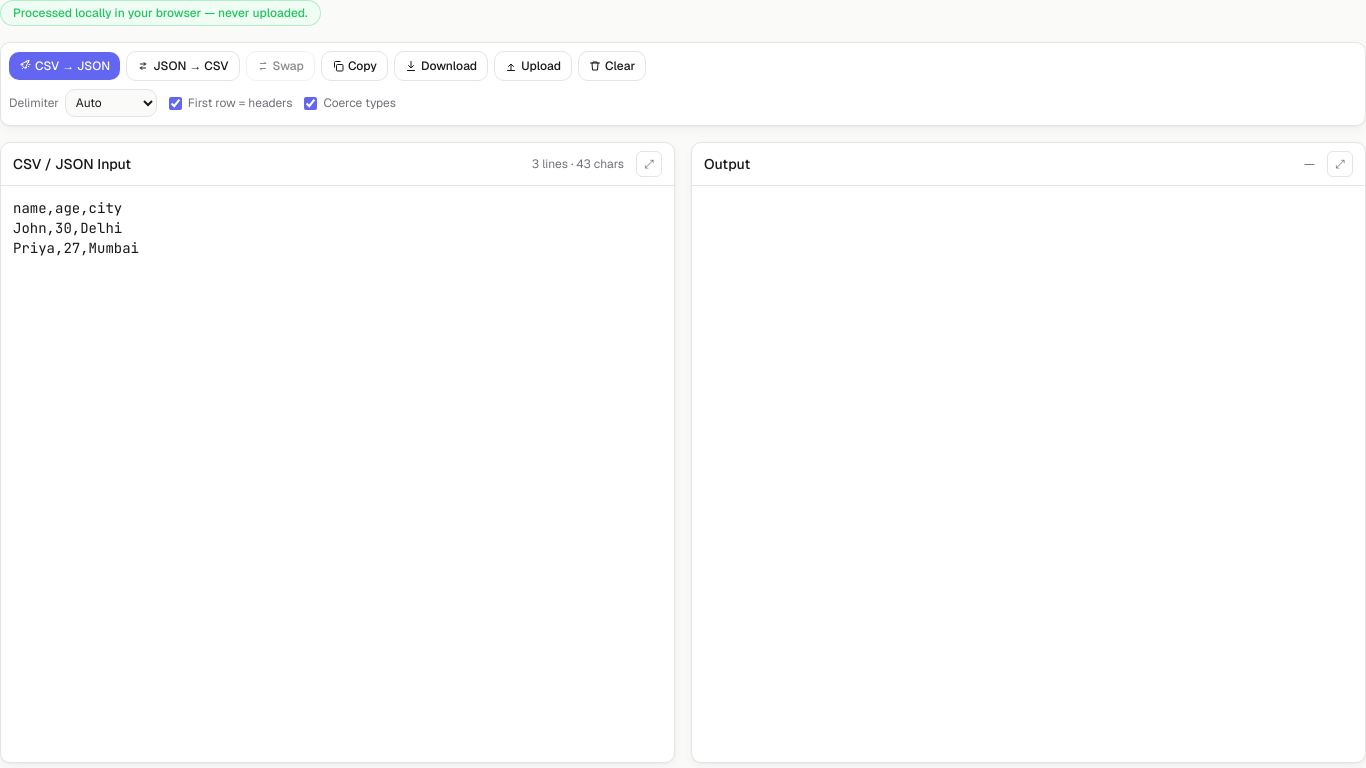
Test: CsvTool › shows error for invalid JSON → CSV
The image size is (1366, 768).
Clear the text box named "csv / json input" at (338,474), box left=1, top=186, right=674, bottom=762
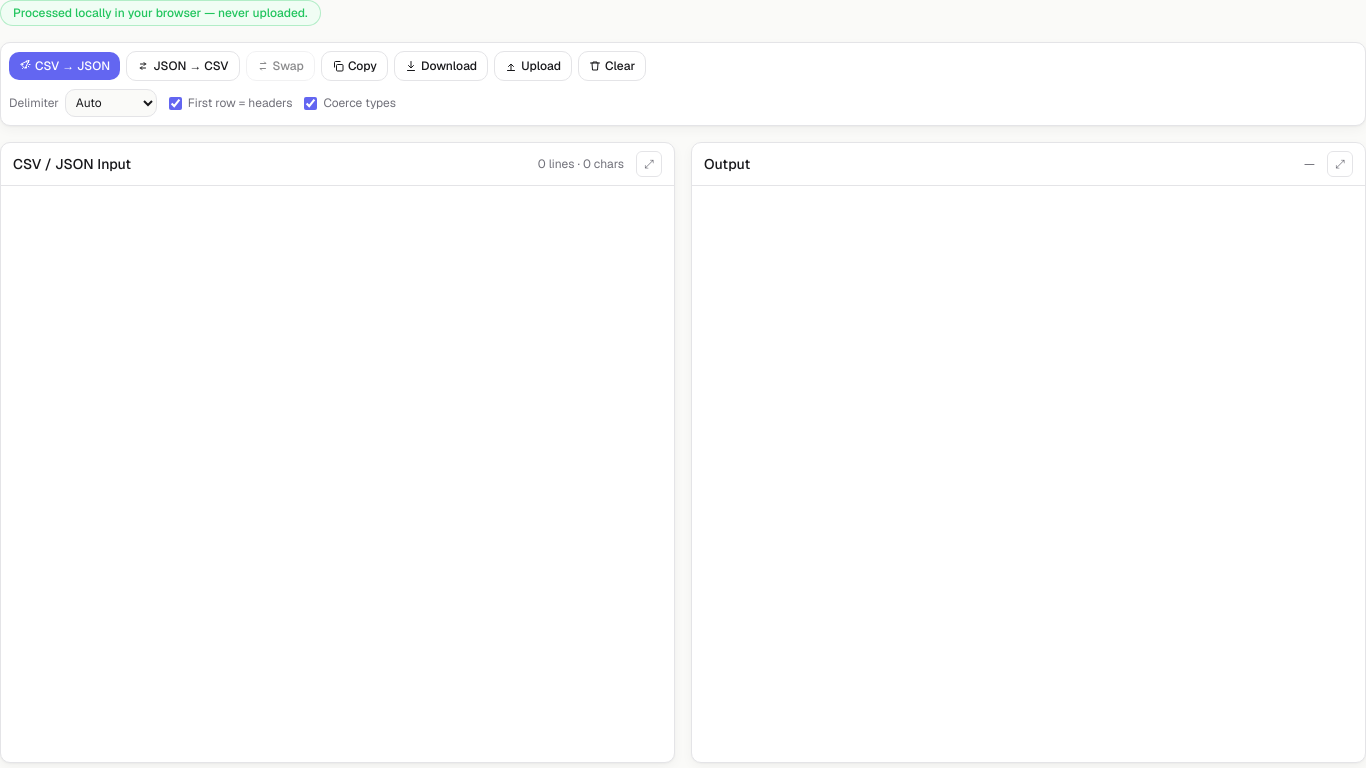
Type keys "{\"not\":\"array\"}"
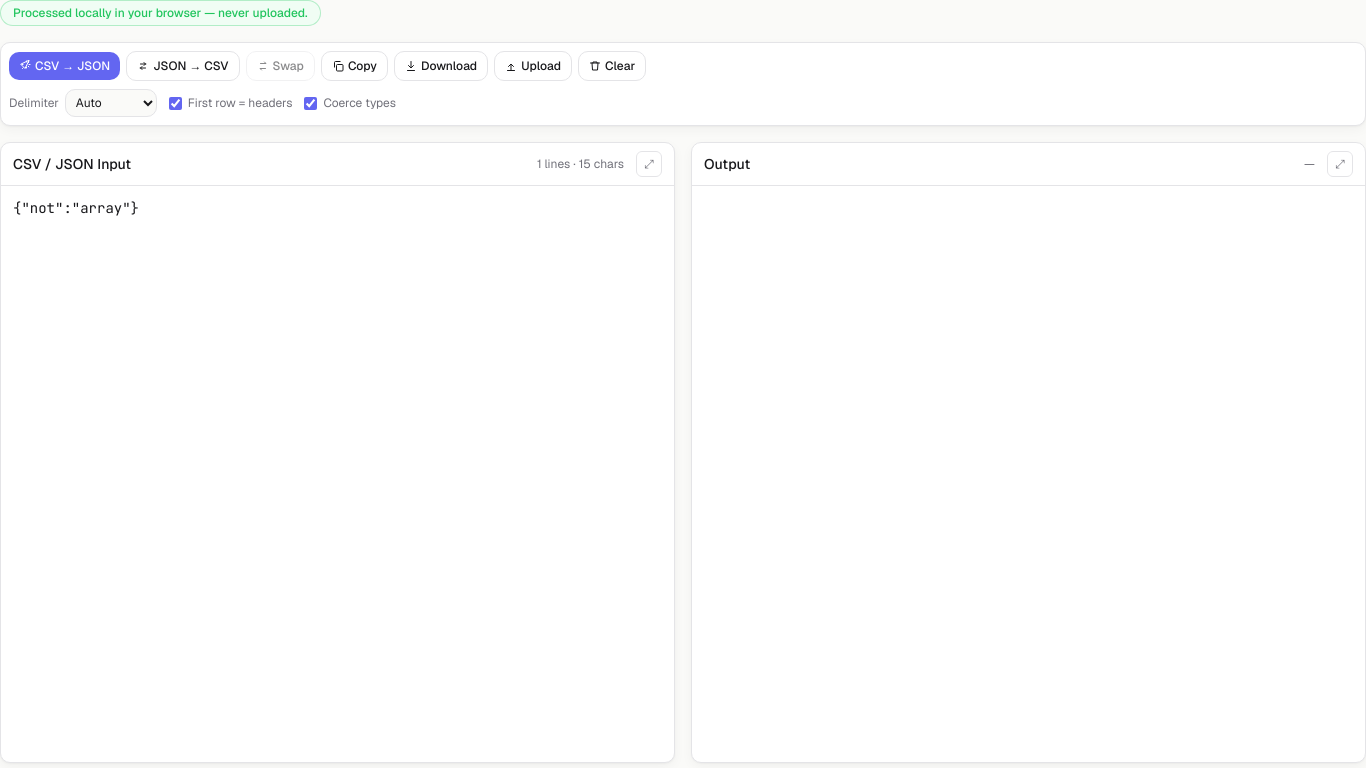
Click the button "JSON → CSV" at (183,66), box left=126, top=51, right=240, bottom=81
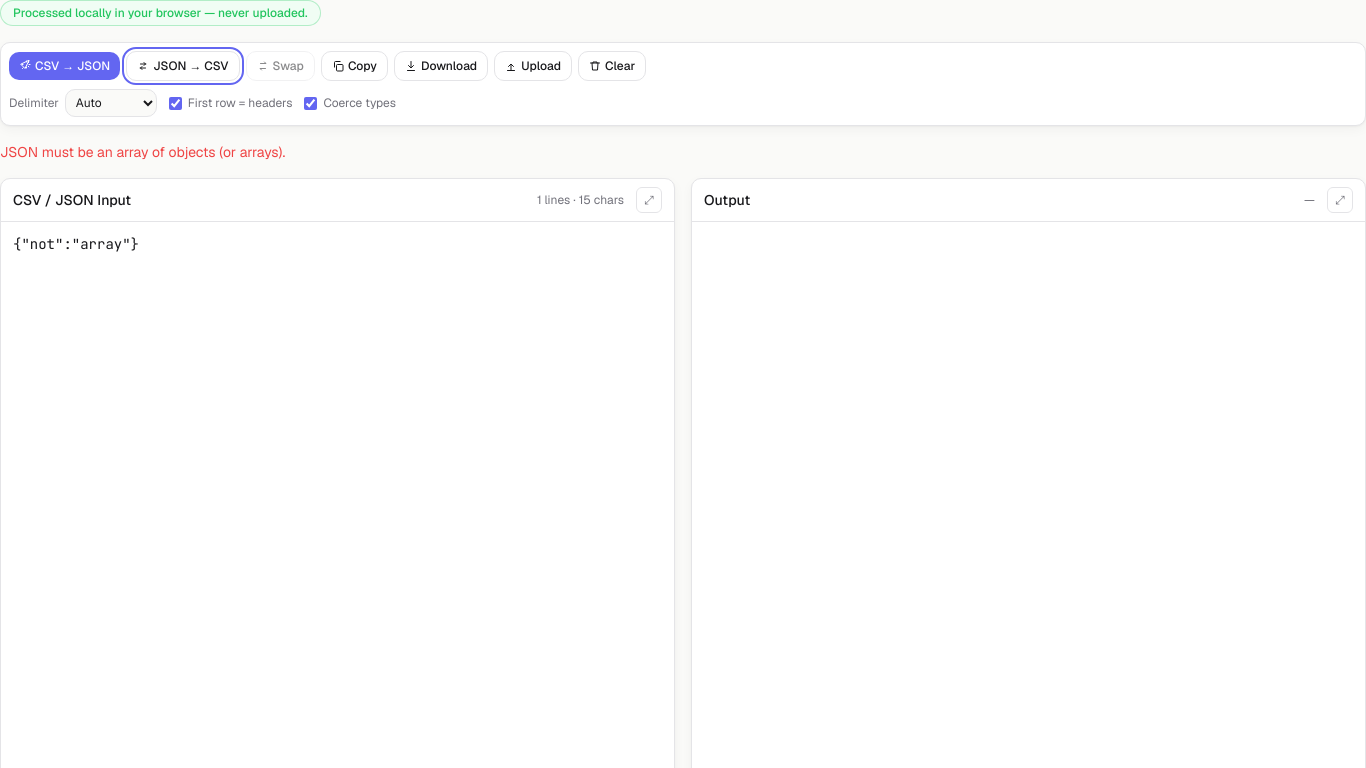
Expected: the message "JSON must be an array of objects (or arrays)." is shown, left=0, top=143, right=285, bottom=161
